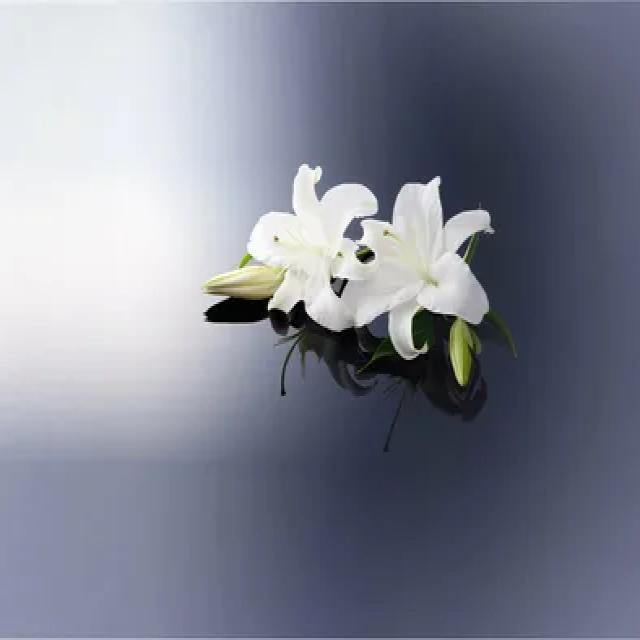lily: (356, 169, 494, 375)
